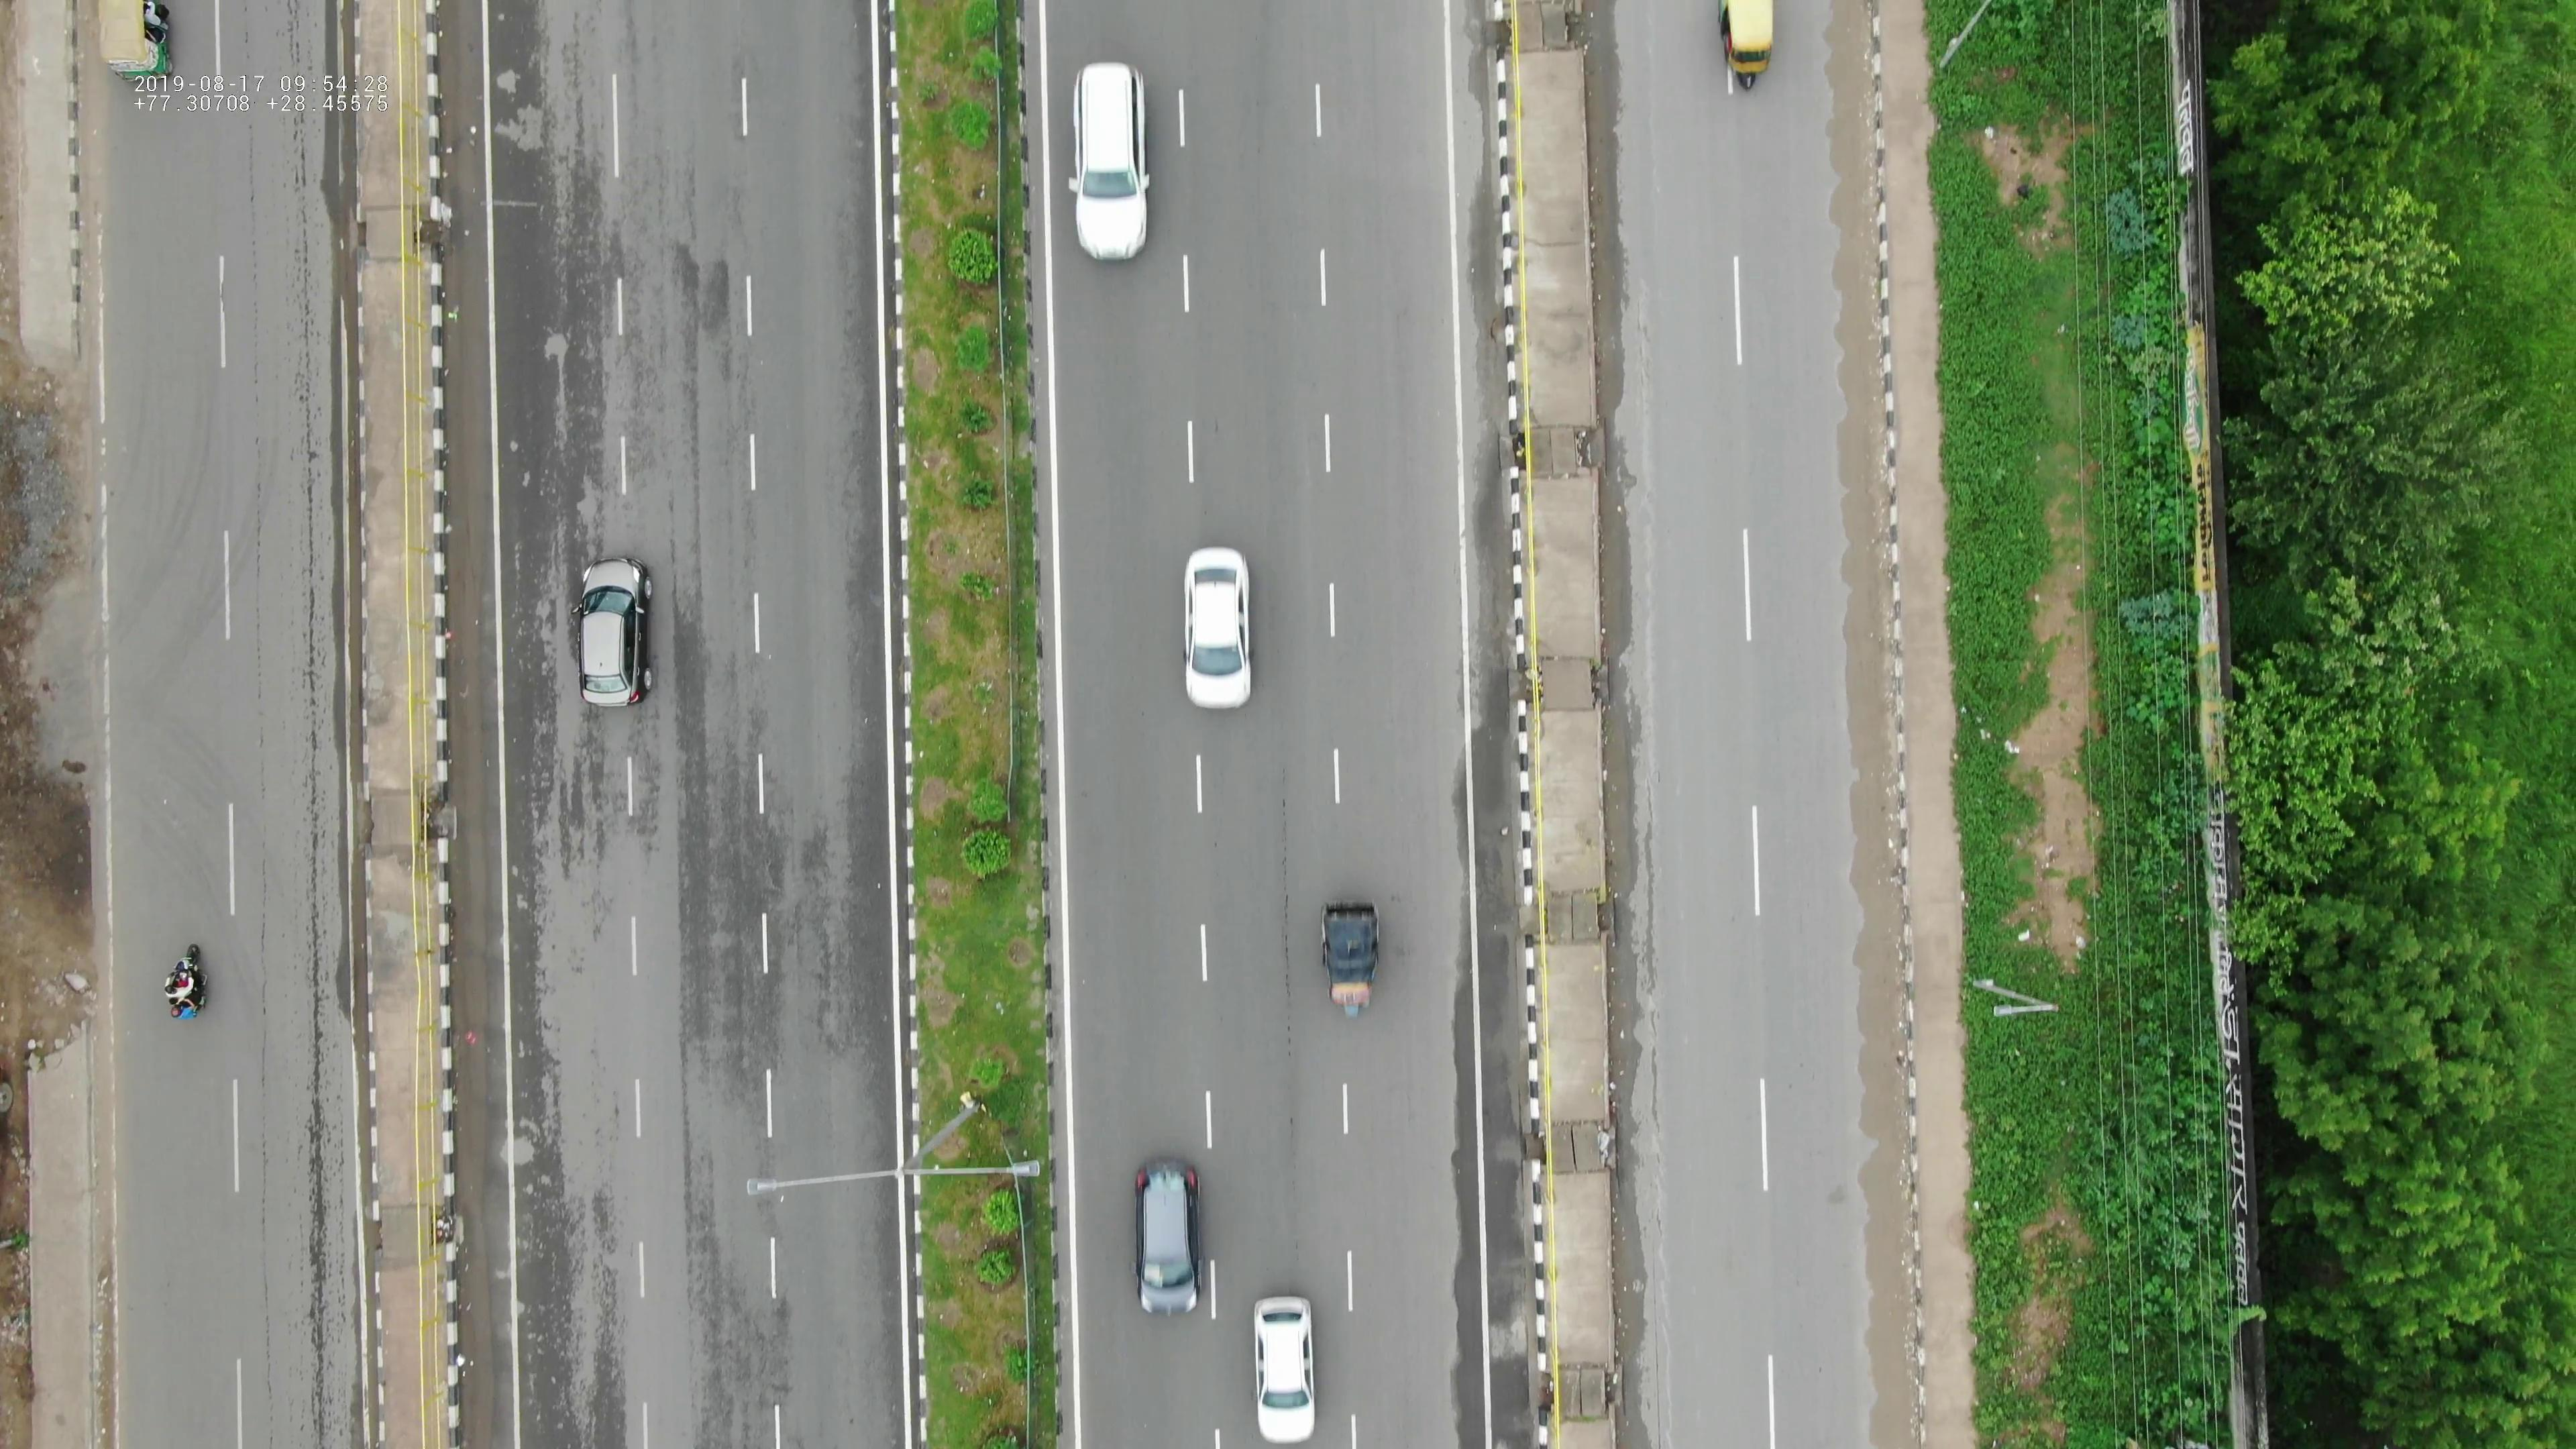Muddy_road: (1813, 2, 1916, 800), (1822, 879, 1934, 1426)
